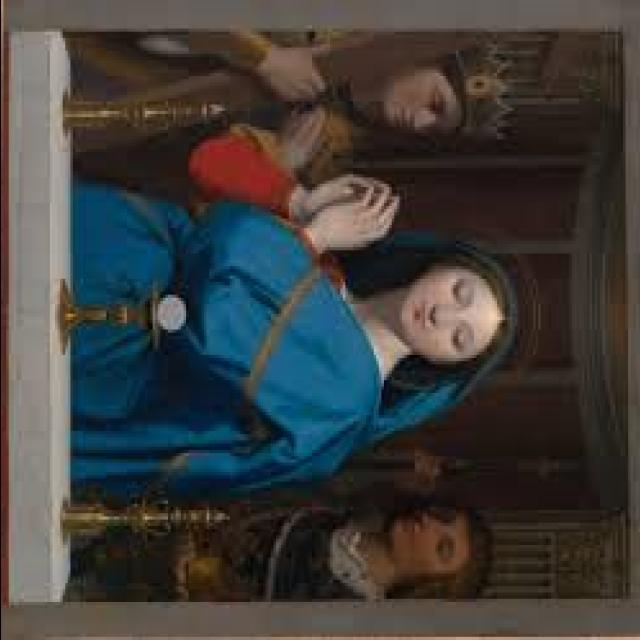mother of god: (65, 153, 550, 508)
